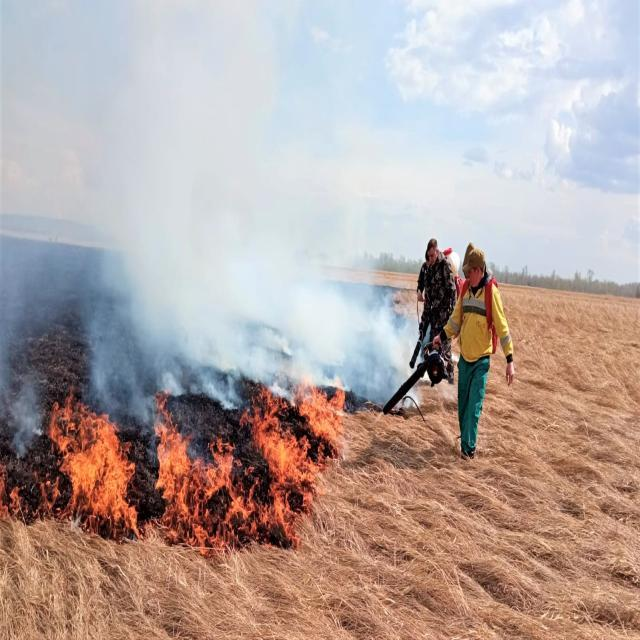Fire: (155, 374, 348, 560), (0, 392, 141, 540)
Smoke: (0, 69, 424, 457)
